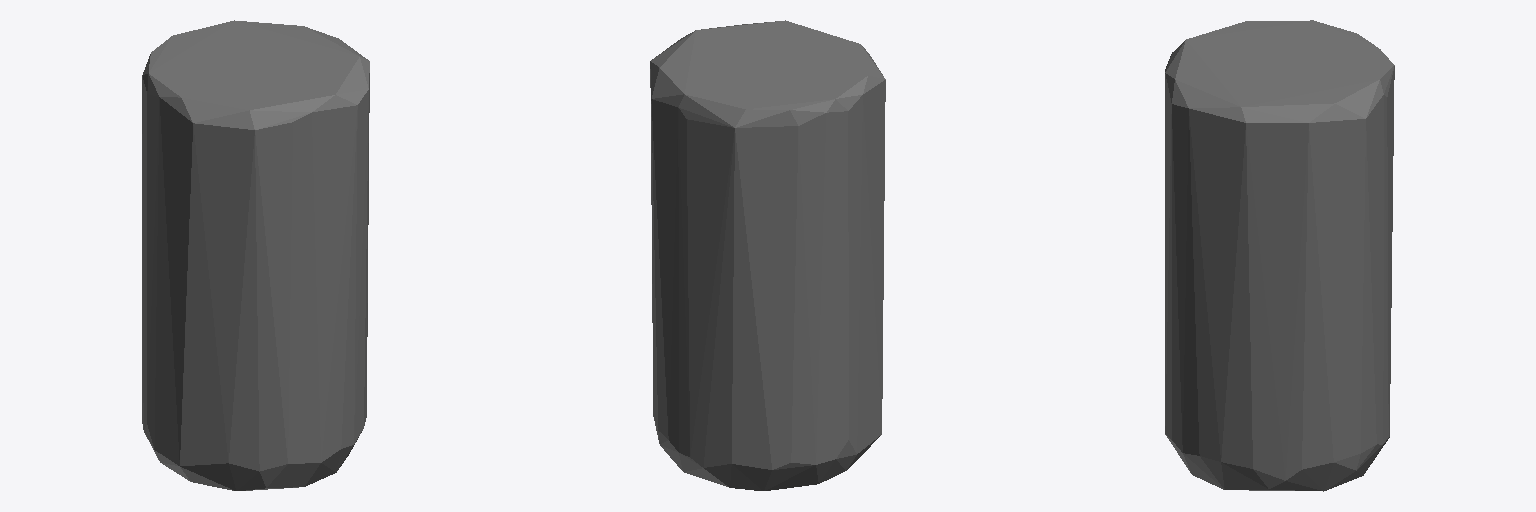
The robot description file, URDF, robot "jar_006":
<?xml version="1.0" ?>
<robot name="jar_006">
  <material name="color">
    <color rgba=".5 .5 .5 1"/>
  </material>

  <link name="base_link">
    <contact>
      <lateral_friction value="1.0"/>
      <rolling_friction value="0.001"/>
      <spinning_friction value="0.001"/>
      <inertia_scaling value="1.0"/>
    </contact>
    <inertial>
      <origin rpy="0 0 0" xyz="-4.74582e-06 7.47903e-06 0.00167423"/>
       <mass value="0.1"/>
       <inertia ixx="1" ixy="0" ixz="0" iyy="1" iyz="0" izz="1"/>
    </inertial>

    <visual>
      <origin rpy="0 0 0" xyz="0 0 0"/>
      <geometry>
        <mesh filename="jar_006_vhacd_0_of_1.obj" scale="1 1 1"/>
      </geometry>
      <material name="color"/>
    </visual>

    <collision>
      <origin rpy="0 0 0" xyz="0 0 0"/>
      <geometry>
        <mesh filename="jar_006_vhacd_0_of_1.obj" scale="1 1 1"/>
      </geometry>
    </collision>

  </link>
</robot>

--- Facts derived from the render (not from the file) ---
The picture shows the robot from 3 angles, left to right: view 1: azimuth 30°, elevation 25°; view 2: azimuth 150°, elevation 25°; view 3: azimuth 270°, elevation 25°; orthographic projection.
Model jar_006 with 1 links and 0 joints (none), rooted at base_link, posed every joint at zero.
Visible links, largest first — view 1: base_link; view 2: base_link; view 3: base_link.
Boxes of the visible links, x1,y1,x2,y2 form: base_link: (142, 20, 369, 490); base_link: (650, 20, 885, 490); base_link: (1165, 20, 1394, 491).
Bounding box of the posed robot: 0.0784 × 0.0784 × 0.1479 m (x, y, z).
1 mesh visuals loaded from 1 distinct referenced files (1 OBJ).